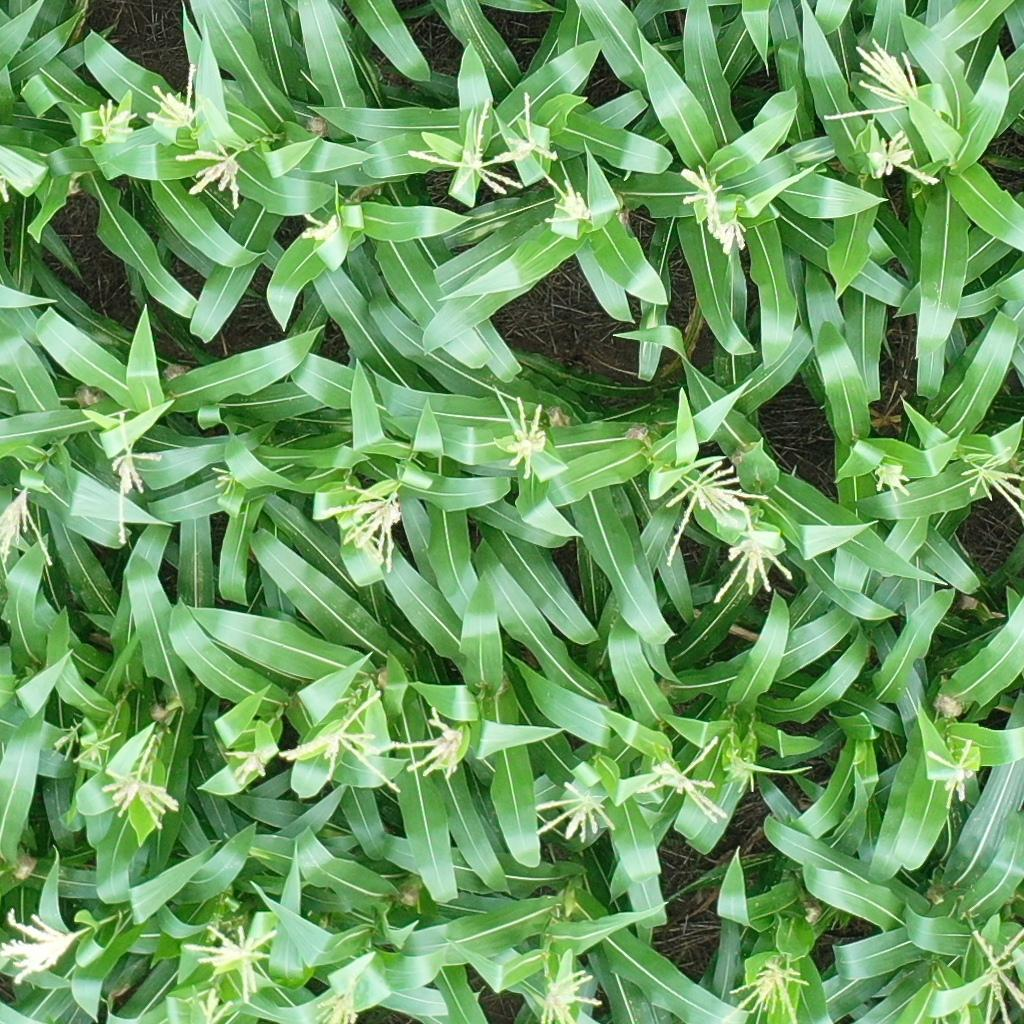Tassel: (282, 688, 409, 803), (405, 97, 524, 199), (663, 450, 771, 562), (316, 476, 416, 576), (820, 32, 929, 123), (102, 408, 164, 548), (185, 913, 278, 1003), (636, 738, 734, 822), (384, 697, 473, 781), (1, 907, 78, 989), (716, 536, 799, 609), (966, 920, 1024, 1024), (731, 954, 817, 1024), (536, 776, 620, 845), (488, 90, 564, 166), (959, 441, 1024, 522), (175, 141, 253, 206), (496, 388, 553, 476), (1, 487, 61, 569), (860, 127, 938, 185), (99, 772, 182, 826), (146, 62, 205, 132), (917, 742, 978, 806), (536, 964, 604, 1018), (676, 161, 723, 229), (545, 175, 602, 229), (864, 456, 919, 507), (227, 745, 275, 801), (315, 976, 360, 1024), (94, 98, 140, 144), (71, 731, 123, 770), (721, 742, 760, 791), (195, 987, 242, 1024), (295, 211, 340, 248), (211, 458, 240, 501), (716, 218, 753, 251), (51, 723, 82, 760)
